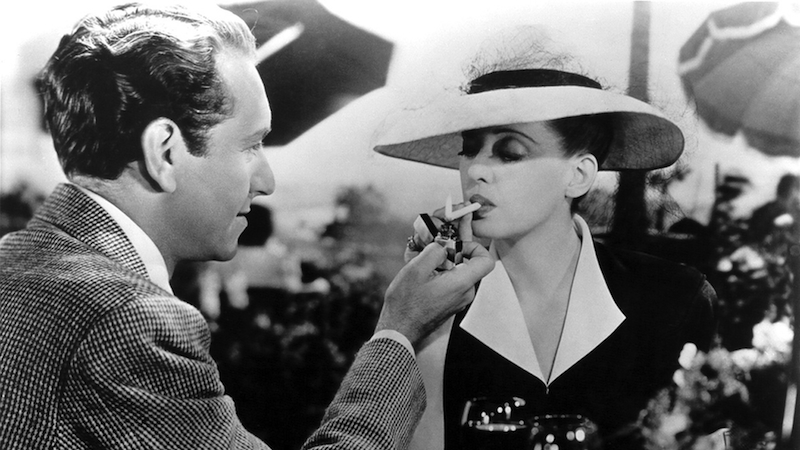cigarette: (442, 196, 485, 227)
